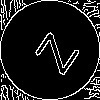Z: (25, 25, 81, 76)
